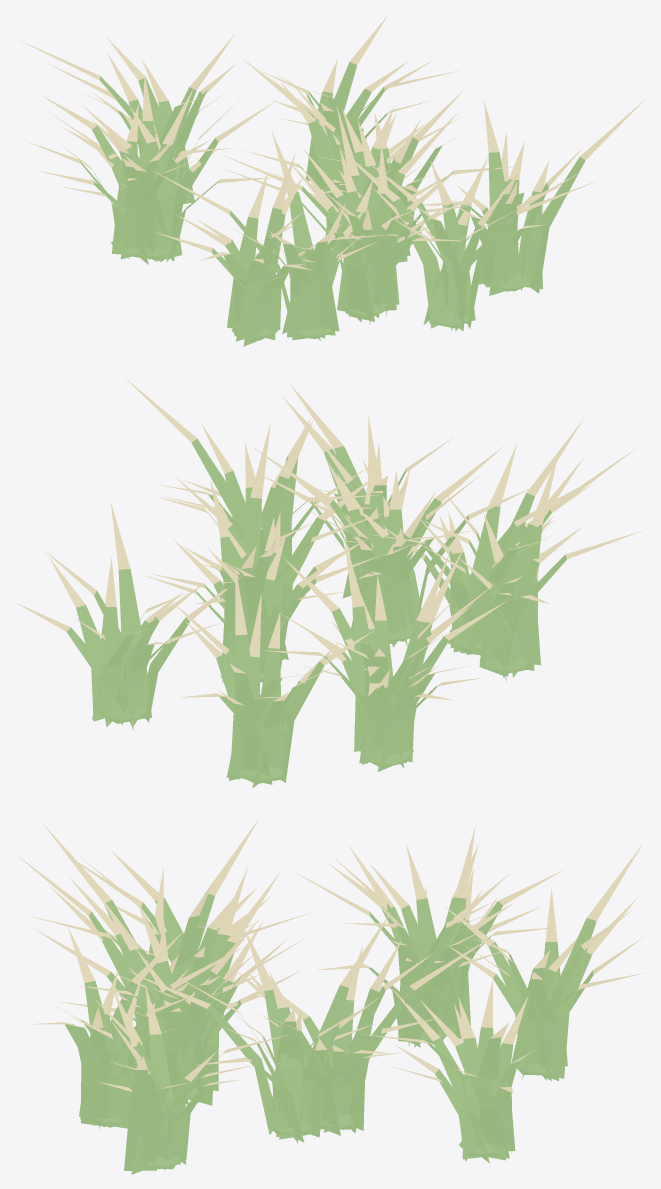
Rendered from Blender_LakeDuneGrass_2.glb.
The picture shows the model from 3 angles, top to bottom: view 1: azimuth 30°, elevation 25°; view 2: azimuth 150°, elevation 25°; view 3: azimuth 270°, elevation 25°; orthographic projection. The views are drawn at different scales.
Parts seen in each view (by area): view 1: Blender_LakeDuneGrass_2; view 2: Blender_LakeDuneGrass_2; view 3: Blender_LakeDuneGrass_2.
Part boxes in pixels (box(x1,y1,x2,y2)): Blender_LakeDuneGrass_2: box(18, 15, 645, 346); Blender_LakeDuneGrass_2: box(15, 376, 643, 788); Blender_LakeDuneGrass_2: box(15, 819, 644, 1174).
Size of the model in its own units: 2.55 by 0.8632 by 2.67.
